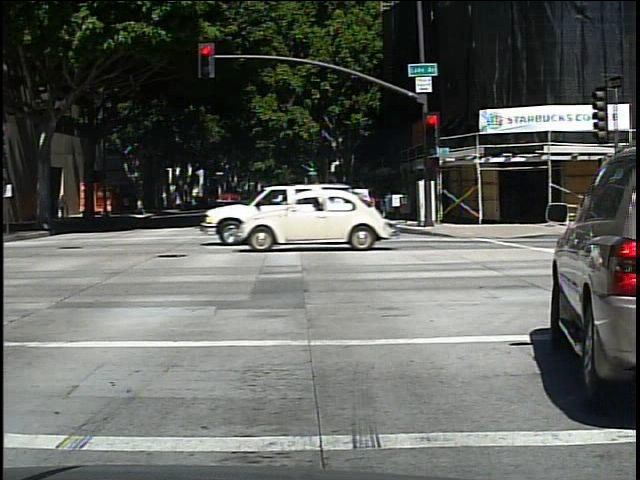person: (58, 190, 70, 223)
